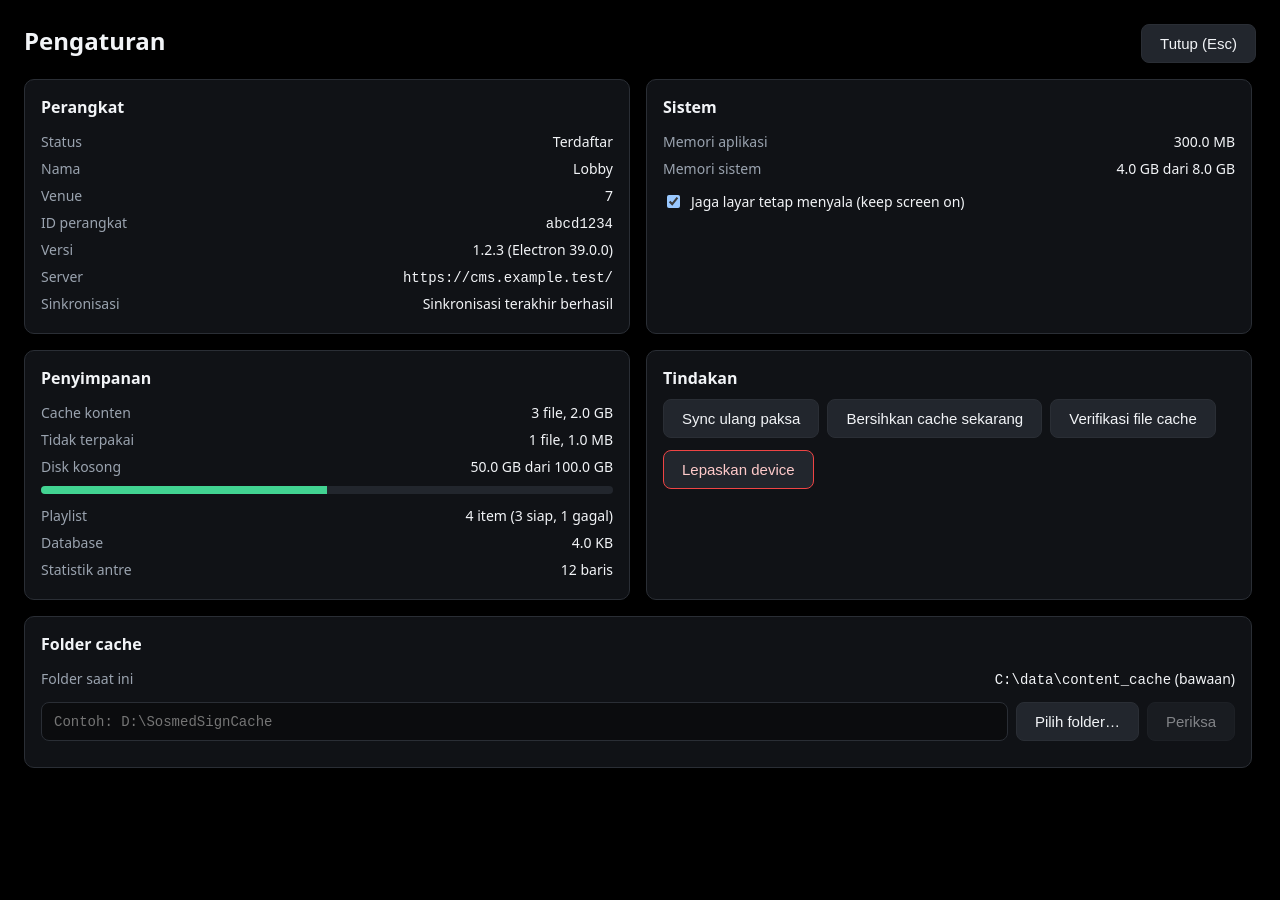
SettingsOverlay › ignores a second action while one is running and disables the buttons
Click the button "Sync ulang paksa" at (741,418), box [663, 399, 819, 438]
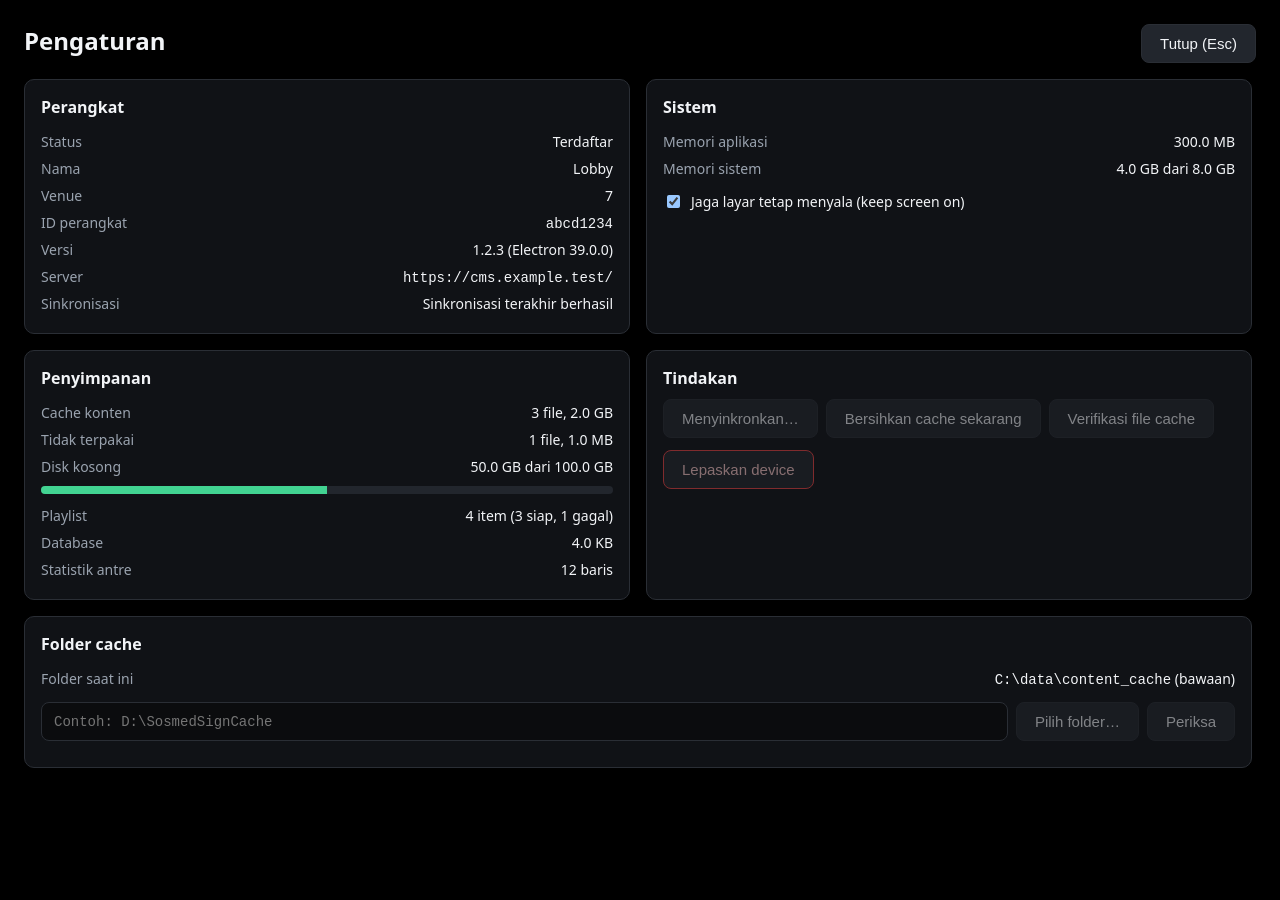
Check: the button "Menyinkronkan…" is disabled
Check: the button "Bersihkan cache sekarang" is disabled, box [826, 399, 1040, 438]
Click the button "Menyinkronkan…" at (740,418), box [663, 399, 818, 438]
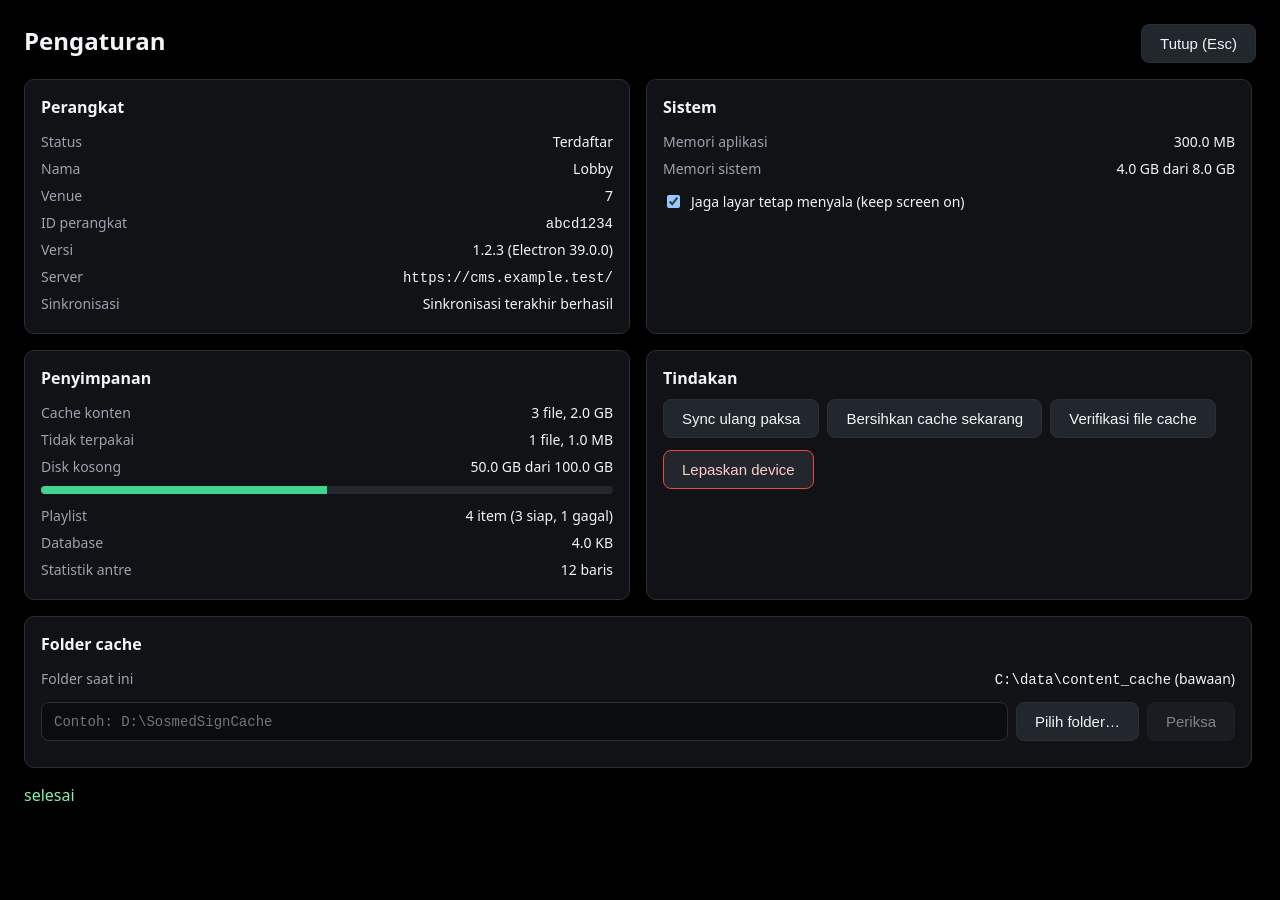
Check: the text "selesai" is shown, box [24, 784, 75, 806]
Check: the button "Sync ulang paksa" is enabled, box [663, 399, 819, 438]
